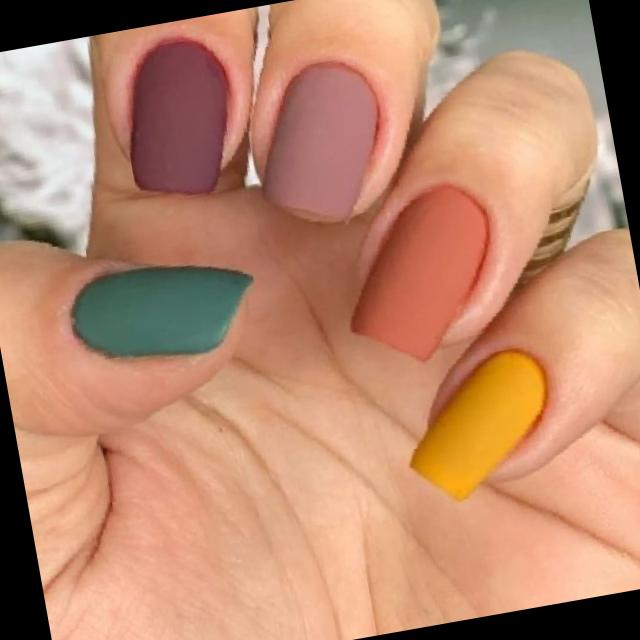Nail: (351, 185, 488, 358), (410, 350, 547, 498), (265, 62, 378, 219), (71, 265, 251, 356), (130, 39, 228, 194)
